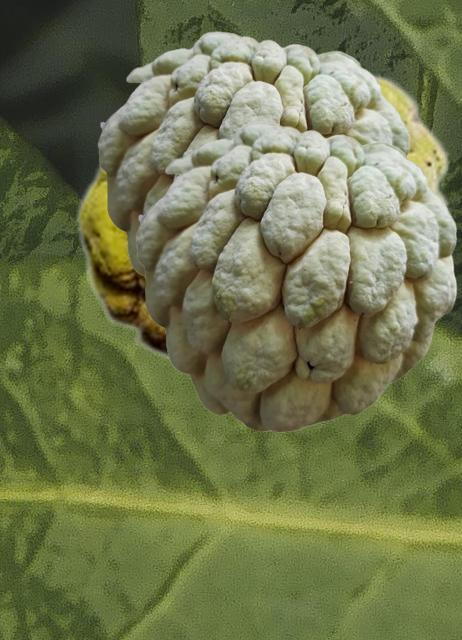atis: (74, 66, 450, 368), (135, 121, 456, 431), (97, 31, 409, 276)
